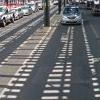Car: (54, 2, 88, 37)
